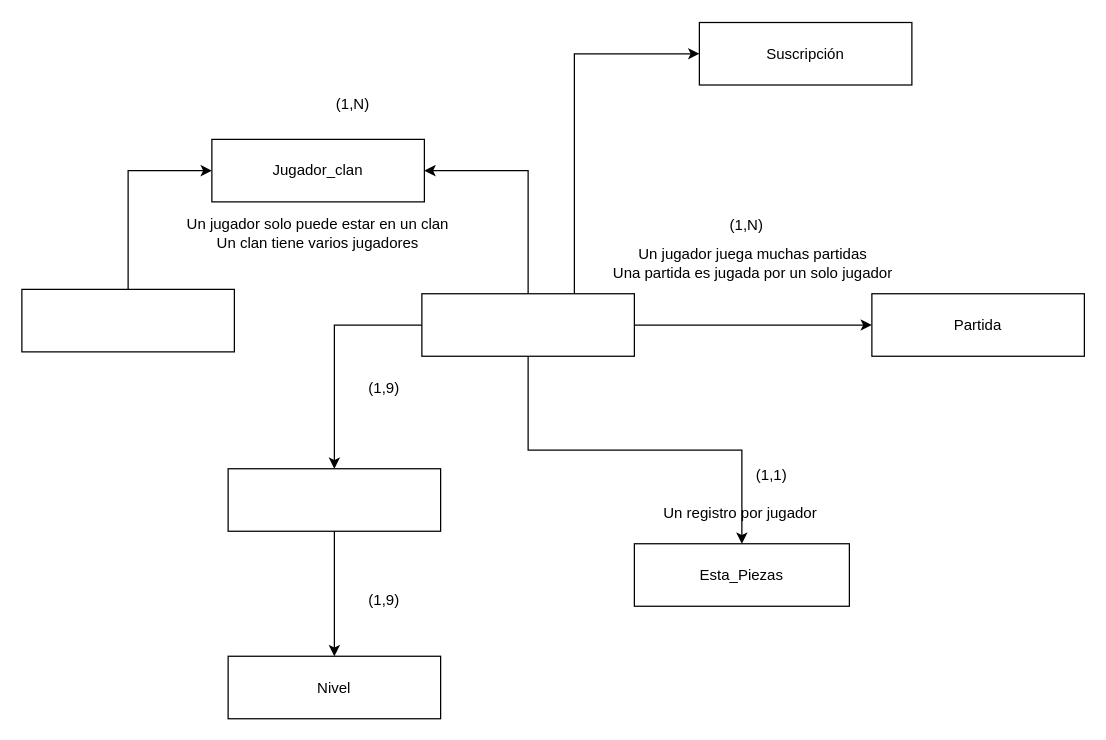
The diagram is 1106 pixels wide and 740 high, and some of its shapes have lost their labels. The centre of each missing label's shape, as x and y in pixels:
"Clan" goes at (x=127, y=320).
"Jugador" goes at (x=527, y=324).
"Mundo" goes at (x=334, y=499).
